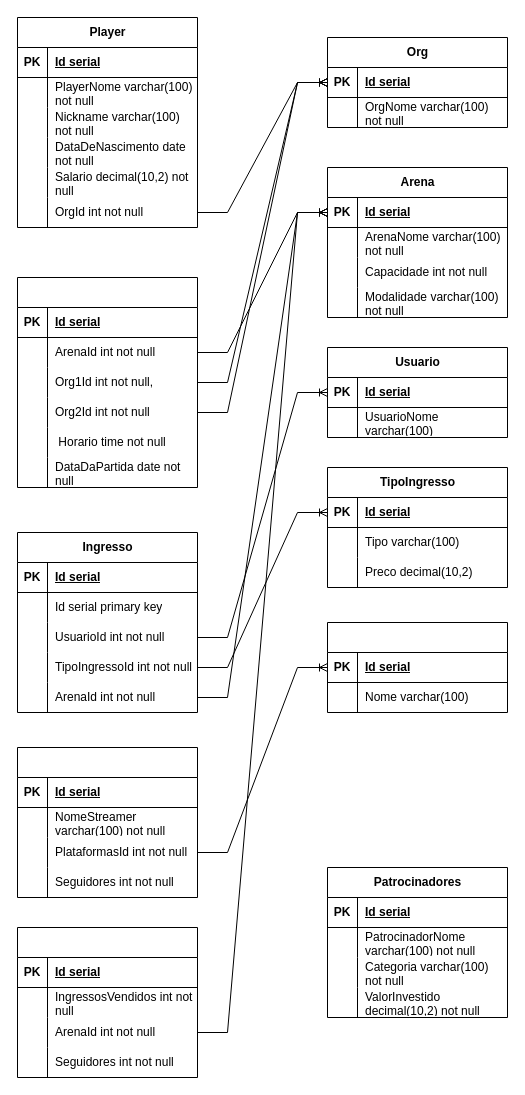
The diagram is 525 pixels wide and 1095 high, and some of its shapes have lost their labels. Each missing label, with the box of its shape:
Lotacao: (16, 926, 198, 1078)
Partidas: (16, 276, 198, 488)
Plataformas: (326, 622, 508, 712)
Streamers: (16, 746, 198, 898)
